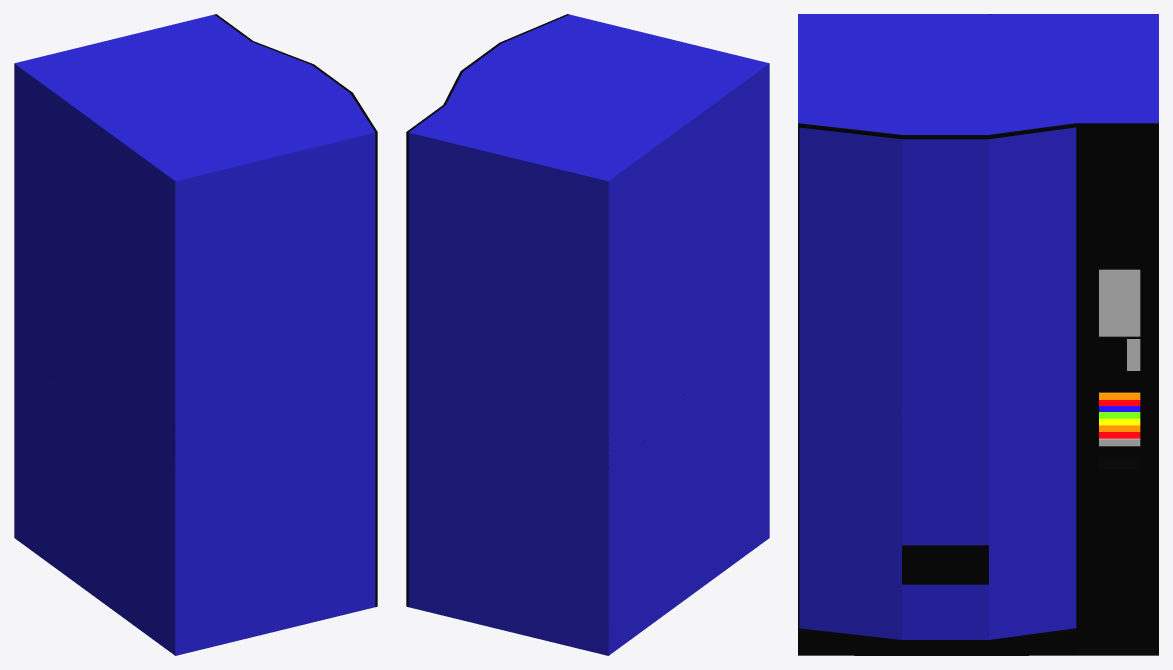
The model's file is Blue_Vending_Machine.fbx.
3 renders of one model, left to right at view 1: azimuth 30°, elevation 25°; view 2: azimuth 150°, elevation 25°; view 3: azimuth 270°, elevation 25°, orthographic. The views are drawn at different scales.
Parts seen in each view (by area): view 1: Cube; view 2: Cube; view 3: Cube.
Part boxes in pixels (x1,y1,x2,y2): Cube: (14, 14, 377, 655); Cube: (406, 14, 769, 655); Cube: (798, 14, 1158, 655).
Bounding box in the file's own units: 472 × 957 × 589.
